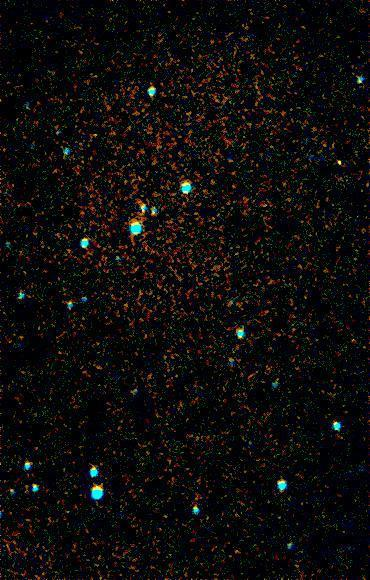star: (325, 149, 355, 179)
